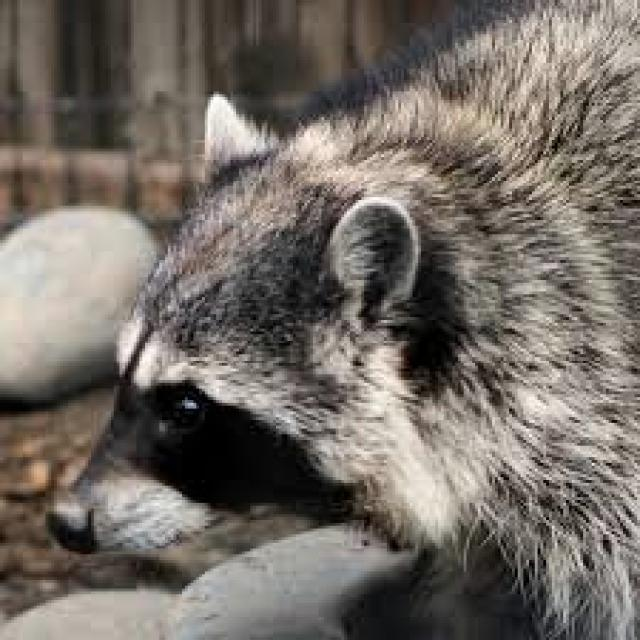raccoon: (48, 0, 637, 637)
